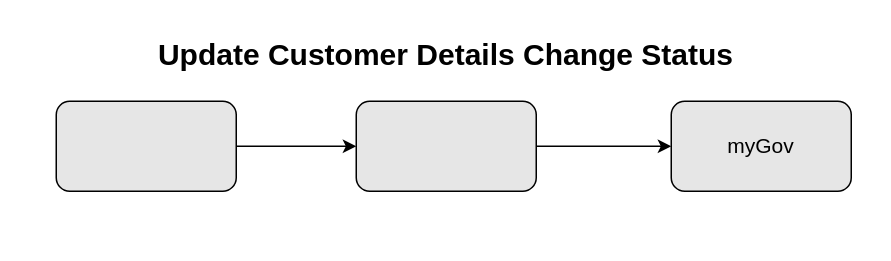
Some shapes in this 891 by 261 pixel diagram are drawn without their labels. The centre of each missing label's shape, as x and y in pixels:
Member Service: the point at 145,145
myGov ESB: the point at 445,145
